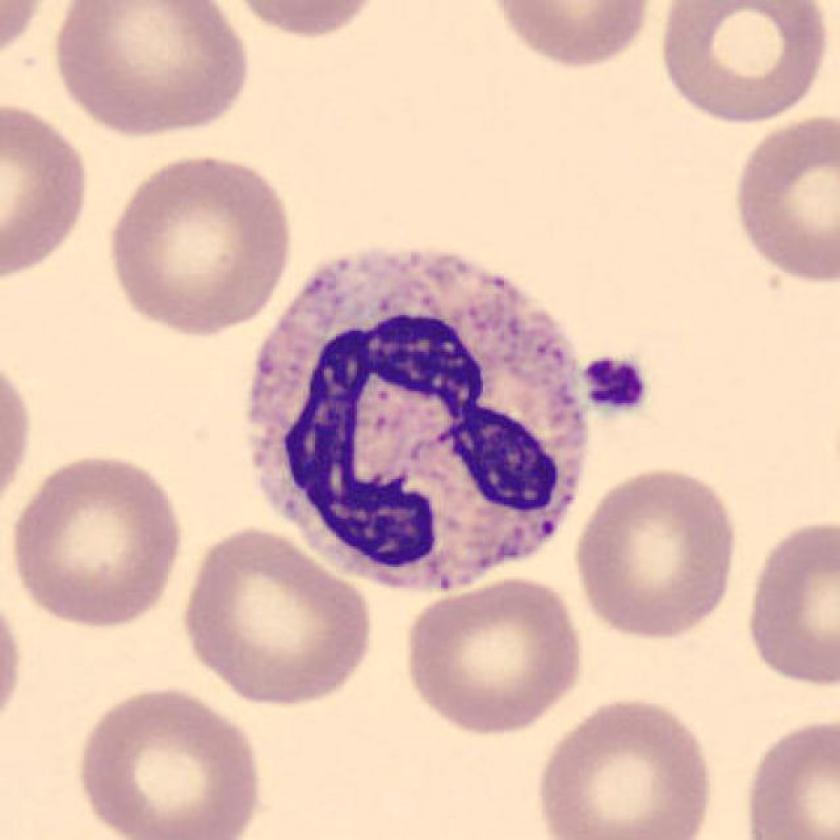neutrophil: (249, 250, 588, 589)
